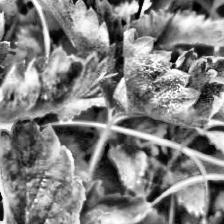Powdery Mildew Leaf: (0, 46, 119, 147), (110, 27, 224, 128), (24, 0, 124, 74), (136, 0, 195, 19)
